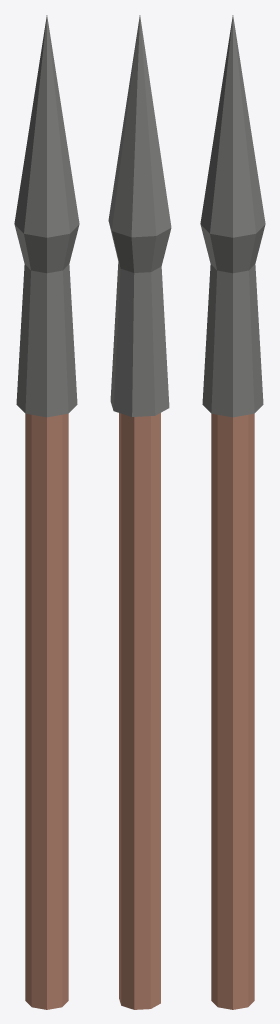
Rendered from Ballista Bolt.fbx.
The picture shows the model from 3 angles, left to right: view 1: azimuth 90°, elevation 25°; view 2: azimuth 210°, elevation 25°; view 3: azimuth 270°, elevation 25°; orthographic projection.
Parts seen in each view (by area): view 1: Ballista Bolt; view 2: Ballista Bolt; view 3: Ballista Bolt.
Part boxes in pixels (x1,y1,x2,y2): Ballista Bolt: [14, 15, 79, 1009]; Ballista Bolt: [108, 15, 171, 1009]; Ballista Bolt: [200, 15, 265, 1009].
Size of the model in its own units: 15.25 by 255 by 15.25.
